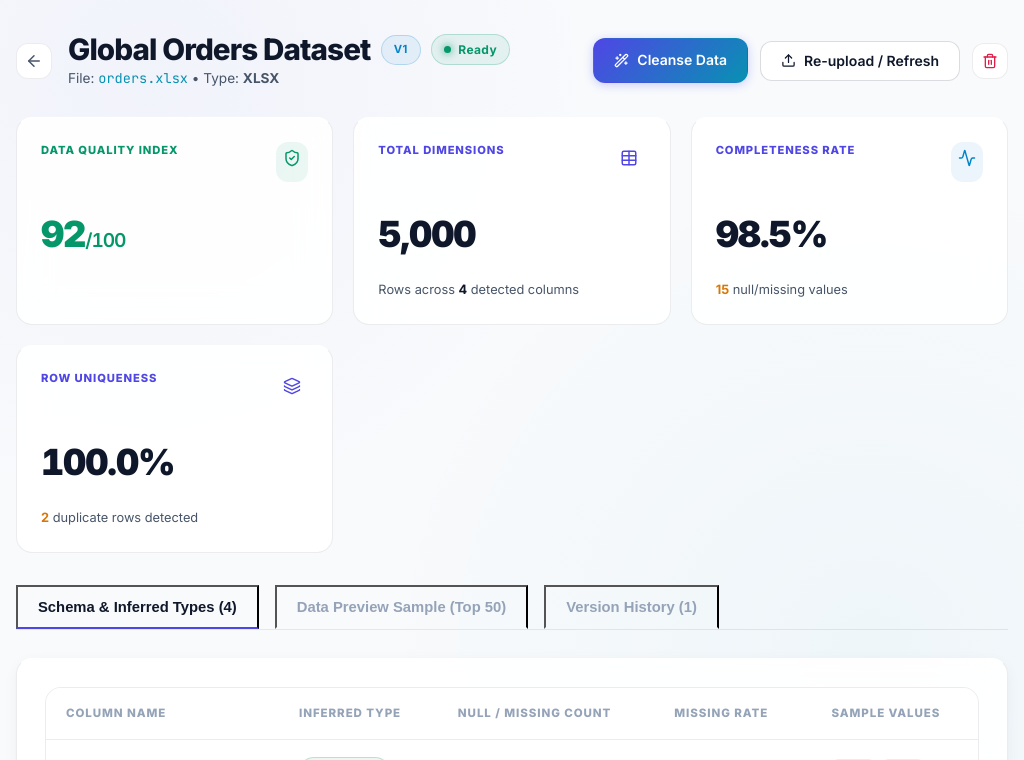
Test: DataStatusView Component › switches to sample preview tab and version history tab
The width and height of the screenshot is (1024, 760).
Click the button with test id "preview-tab-btn": (402, 607) x1=275 y1=585 x2=528 y2=629
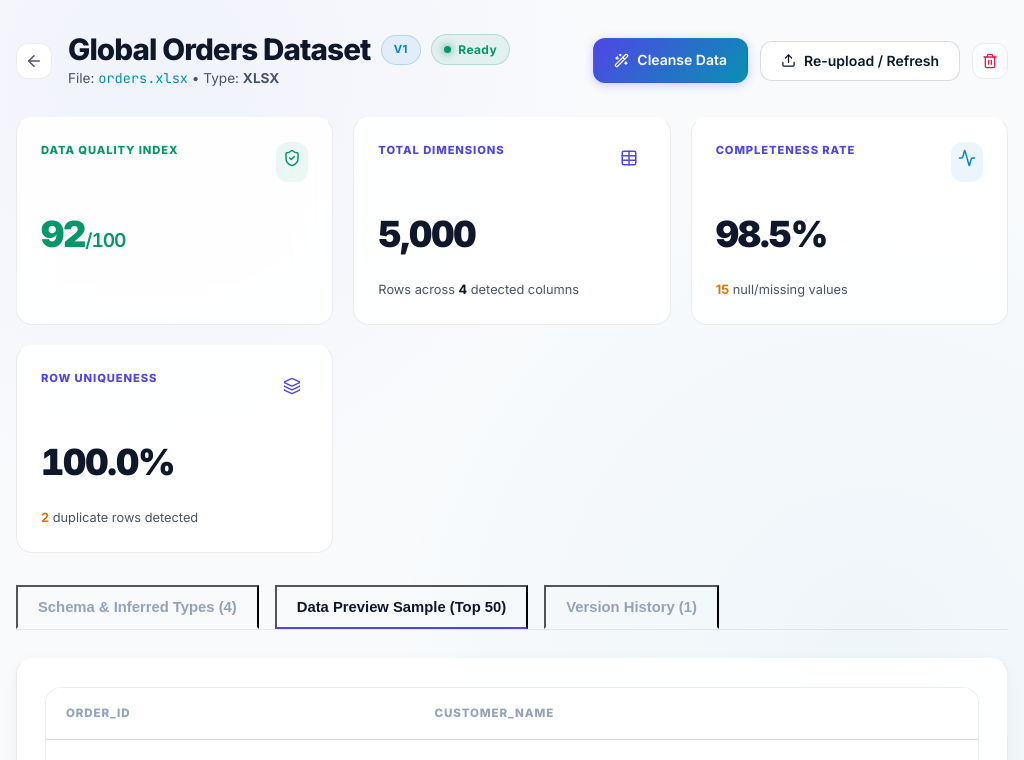
Click the button with test id "versions-tab-btn": (632, 607) x1=544 y1=585 x2=719 y2=629
(page scrolled)
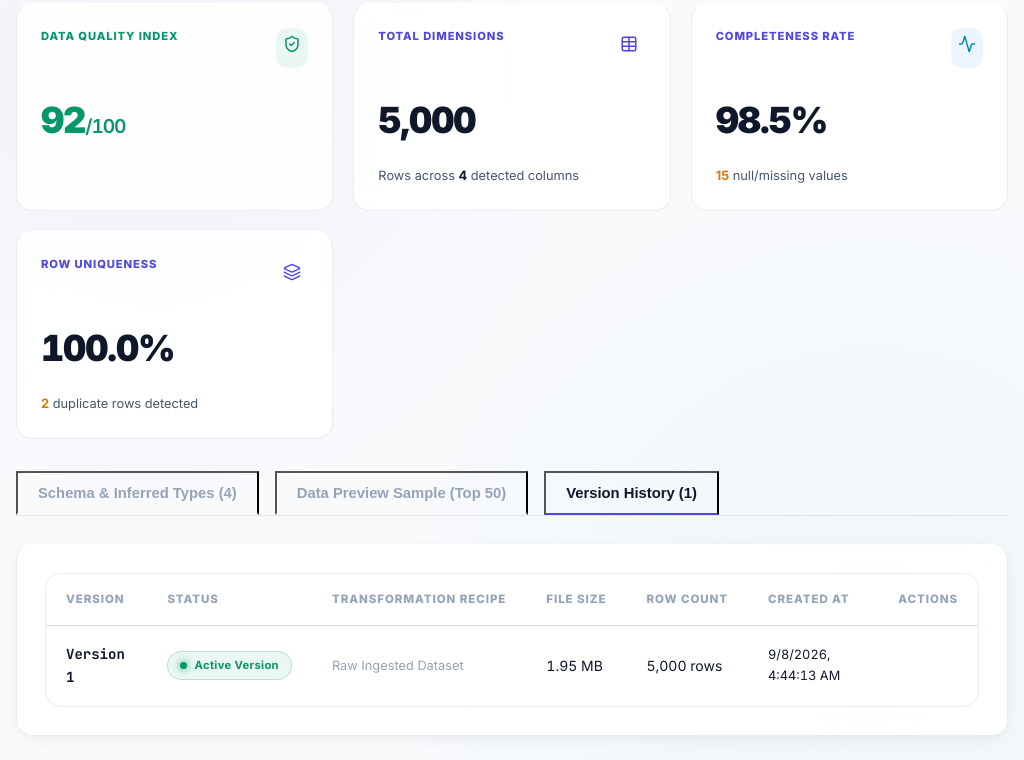
expect the text "Version 1" is shown: met, box x1=66 y1=645 x2=125 y2=686
